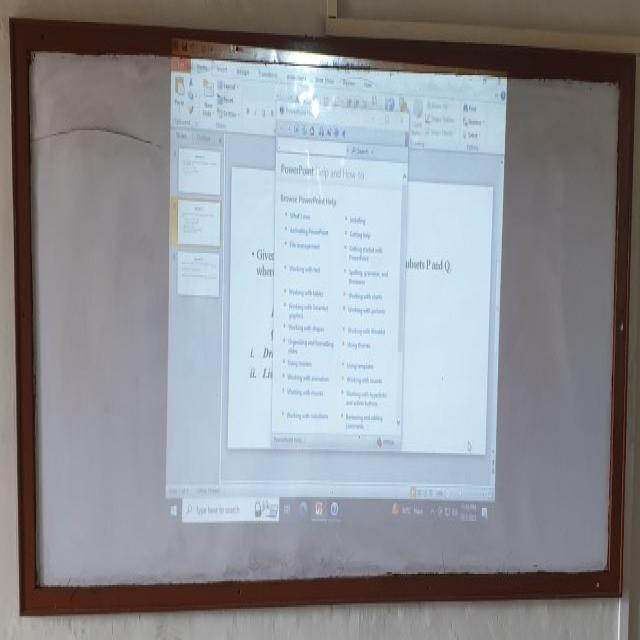Slide: (165, 38, 506, 527)
White-board: (20, 24, 627, 611)
